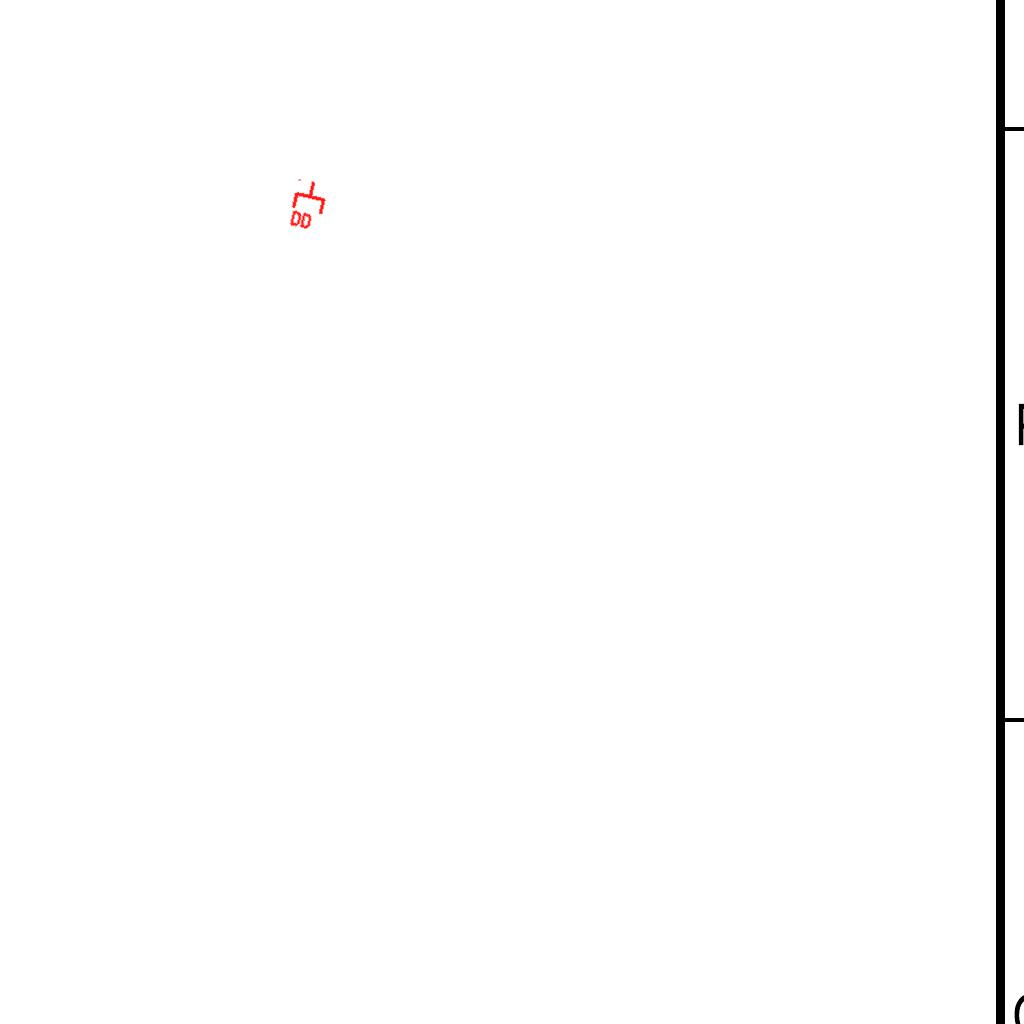Datenanschluss_zweifach: (286, 176, 332, 235)
